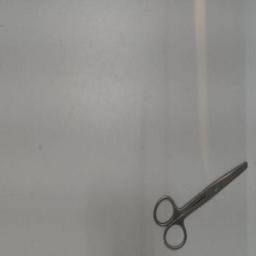Dressing Scissors: (149, 153, 253, 253)
